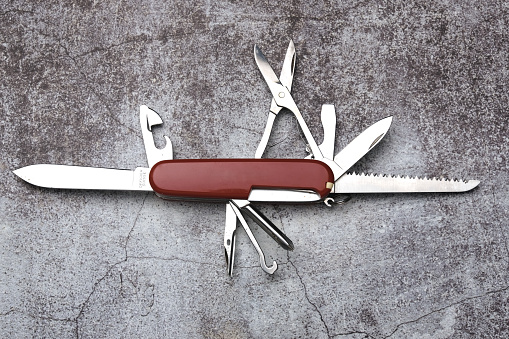knife: (6, 163, 152, 193), (331, 114, 394, 177), (326, 175, 483, 195), (137, 103, 174, 166), (220, 199, 240, 279), (313, 101, 337, 161)
